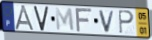A: (14, 4, 37, 31)
F: (75, 8, 94, 33)
M: (54, 7, 76, 33)
P: (117, 10, 135, 36)
V: (33, 6, 50, 33), (98, 10, 117, 34)
